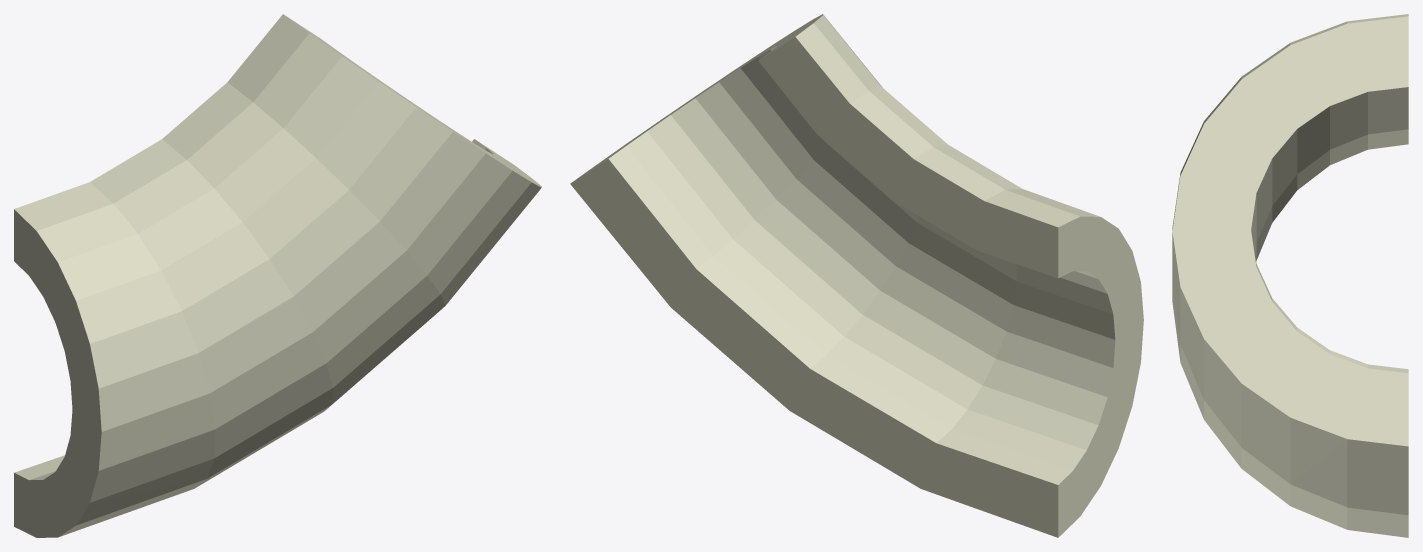
The model's file is section_099.obj.
The picture shows the model from 3 angles, left to right: view 1: azimuth 30°, elevation 25°; view 2: azimuth 150°, elevation 25°; view 3: azimuth 270°, elevation 25°; orthographic projection. The views are drawn at different scales.
Size of the model in its own units: 9.87 by 8.45 by 3.
